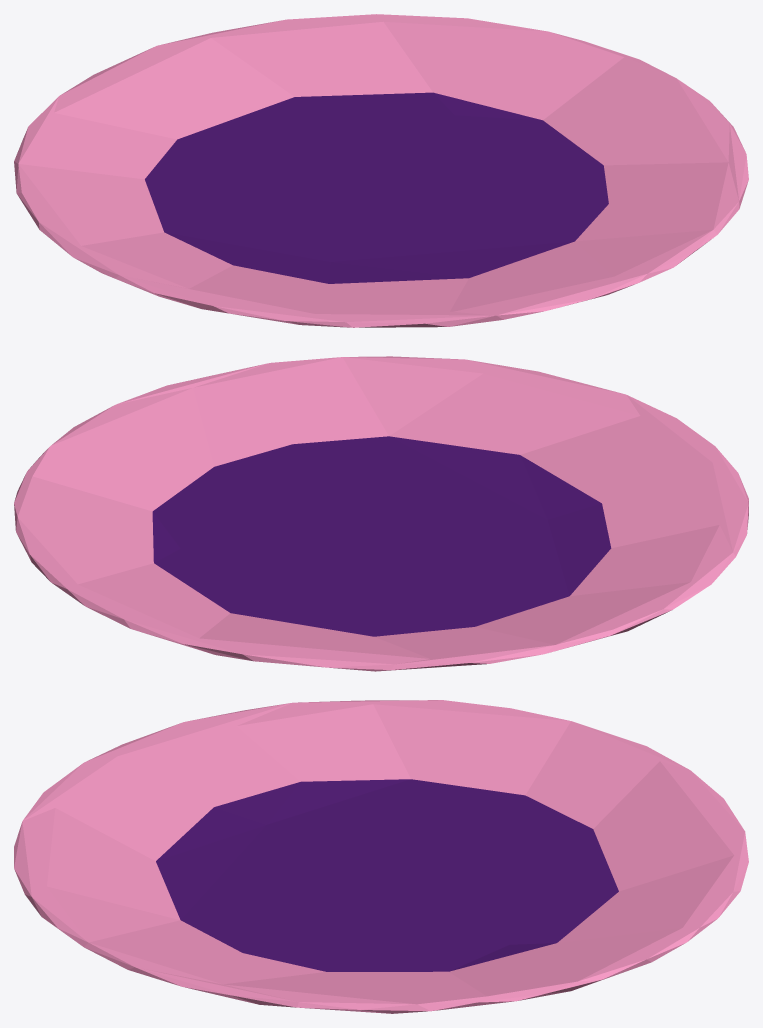
The model's file is PlateBig01.fbx.
3 views of the same model, one above another, from view 1: azimuth 30°, elevation 25°; view 2: azimuth 150°, elevation 25°; view 3: azimuth 270°, elevation 25° (orthographic).
Parts seen in each view (by area): view 1: PlateBig01LowPoly; view 2: PlateBig01LowPoly; view 3: PlateBig01LowPoly.
Part boxes in pixels (bbox=[...]): PlateBig01LowPoly: bbox=[14, 14, 748, 327]; PlateBig01LowPoly: bbox=[14, 356, 748, 671]; PlateBig01LowPoly: bbox=[14, 700, 748, 1013].
Bounding box in the file's own units: 28.9 × 1.79 × 28.88.
